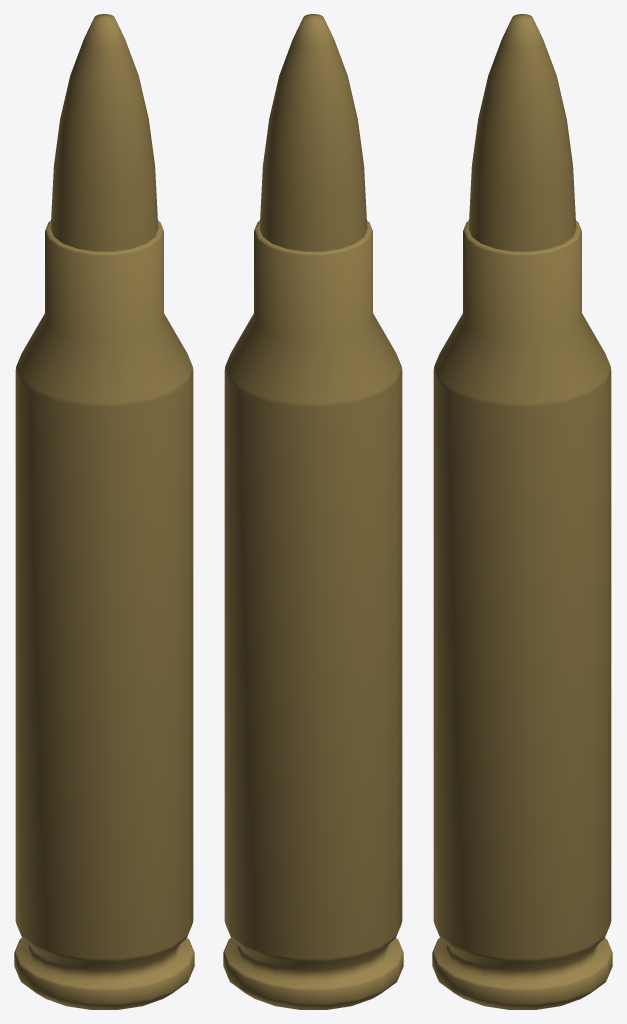
File: ammo.dae
3 renders of one model, left to right at view 1: azimuth 30°, elevation 25°; view 2: azimuth 150°, elevation 25°; view 3: azimuth 270°, elevation 25°, orthographic.
Parts seen in each view (by area): view 1: Cylinder001; view 2: Cylinder001; view 3: Cylinder001.
Boxes of the visible parts, x1,y1,x2,y2 form: Cylinder001: (14,14,194,1009); Cylinder001: (223,14,403,1009); Cylinder001: (432,14,612,1009).
Bounding box in the file's own units: 0.9617 × 5.74 × 0.9766.
